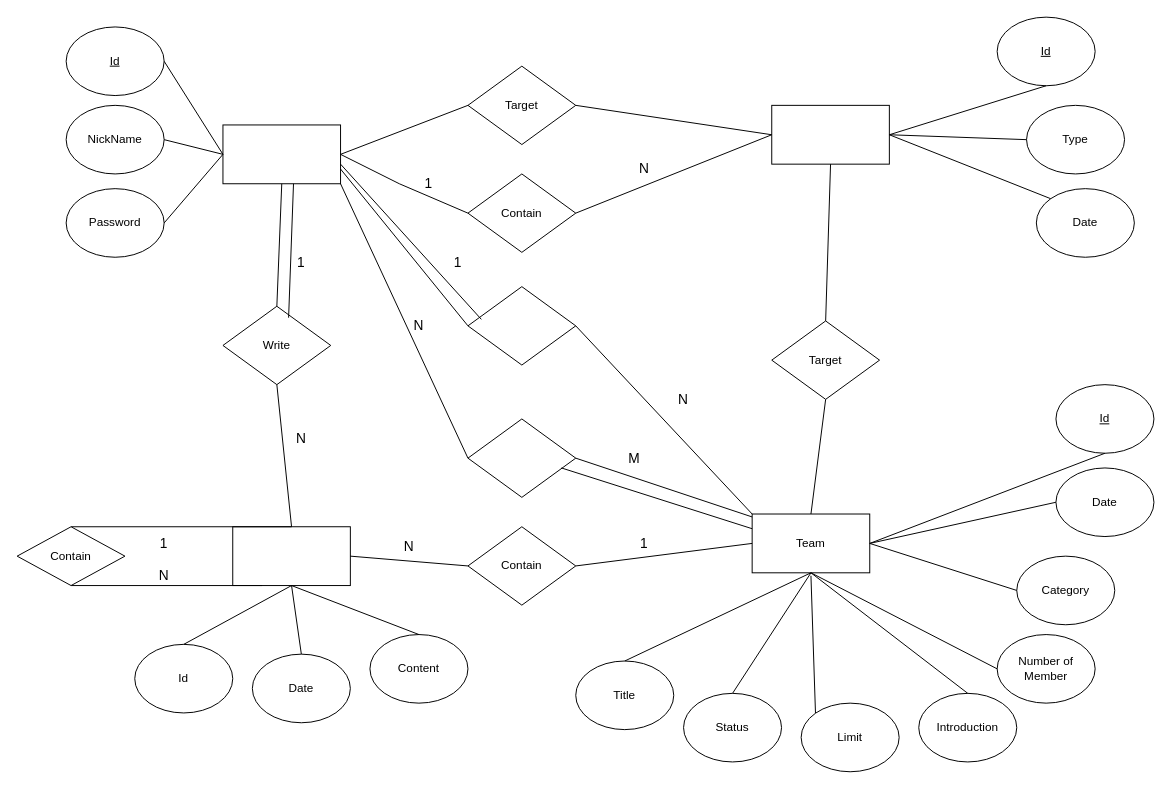
Some shapes in this 1171 by 789 pixel diagram are drawn without their labels. The centre of each missing label's shape, as x and y in pixels:
"Alarm" goes at (830,134).
"Comment" goes at (291,556).
"Member" goes at (521,457).
"Owner" goes at (521,325).
"User Account" goes at (281,154).
